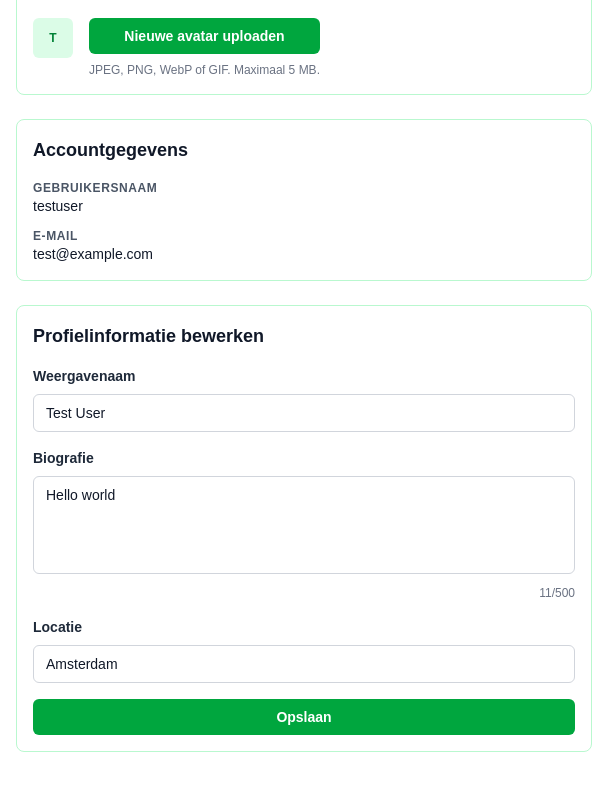
Test: ProfileForm › shows success alert after saving
The image size is (609, 800).
(page scrolled)
Step 1. Click the button with test id "save-button" → click(304, 717), box [33, 699, 575, 735]
(page scrolled)
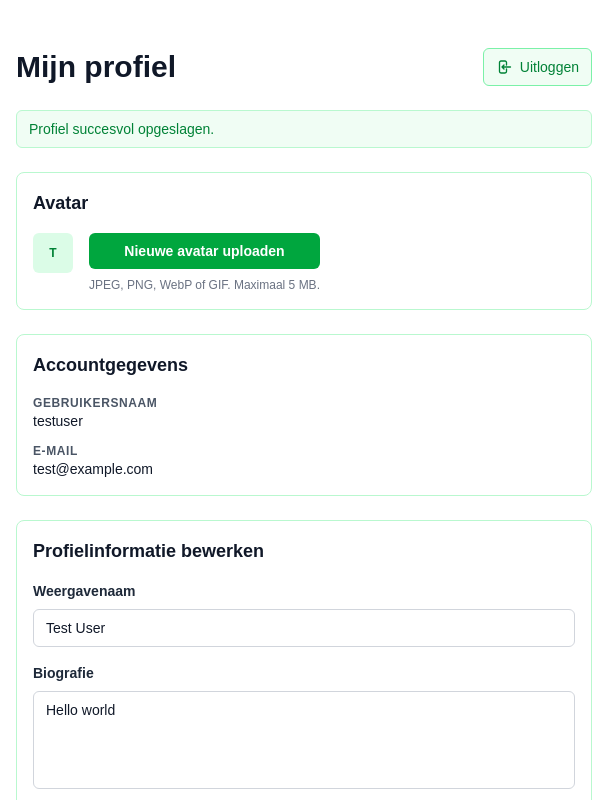
Check: the text "Profiel succesvol opgeslagen." is shown, box [16, 110, 592, 148]
